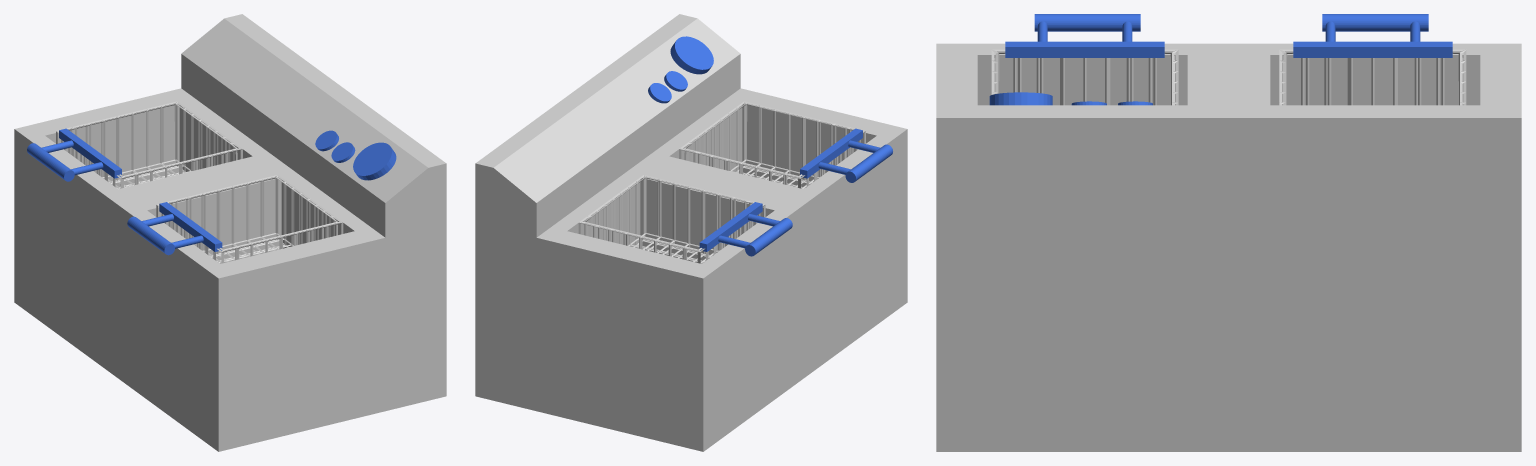
The model's file is Fryer.fbx.
3 renders of one model, left to right at view 1: azimuth 30°, elevation 25°; view 2: azimuth 150°, elevation 25°; view 3: azimuth 270°, elevation 25°, orthographic. The views are drawn at different scales.
Parts seen in each view (by area): view 1: Fryer, FryerPiece.001, FryerPiece; view 2: Fryer, FryerPiece, FryerPiece.001; view 3: Fryer, FryerPiece, FryerPiece.001.
Boxes of the visible parts, x1,y1,x2,y2 form: Fryer: (14,14,446,451); FryerPiece.001: (127,175,343,263); FryerPiece: (27,101,242,189); Fryer: (475,14,907,451); FryerPiece: (578,175,792,263); FryerPiece.001: (679,101,892,189); Fryer: (936,43,1521,451); FryerPiece: (1279,14,1466,105); FryerPiece.001: (991,14,1178,105).
Bounding box in the file's own units: 1298 × 1186 × 1851.
